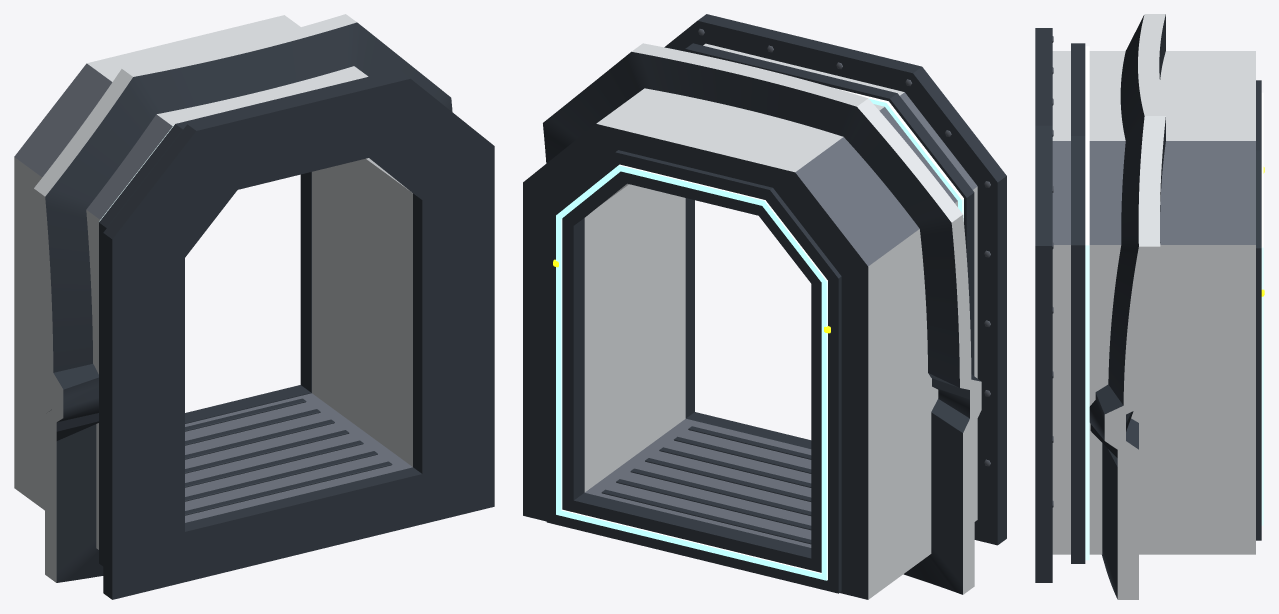
The model's file is DomeConnector_16m.fbx.
The picture shows the model from 3 angles, left to right: view 1: azimuth 30°, elevation 25°; view 2: azimuth 150°, elevation 25°; view 3: azimuth 270°, elevation 25°; orthographic projection. The views are drawn at different scales.
Parts seen in each view (by area): view 1: DomeConnector_Body; view 2: DomeConnector_Body; view 3: DomeConnector_Body.
Boxes of the visible parts, x1,y1,x2,y2 form: DomeConnector_Body: (14,14,494,599); DomeConnector_Body: (523,14,1006,599); DomeConnector_Body: (1035,14,1264,599).
Size of the model in its own units: 3.08 by 3.43 by 1.61.
